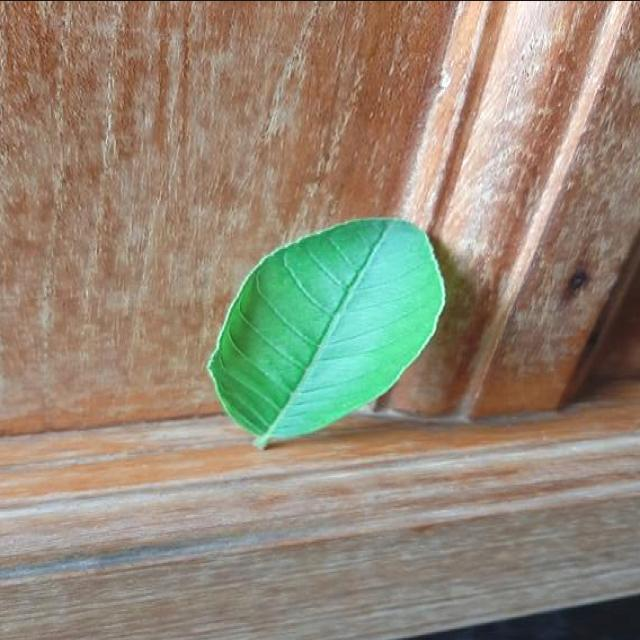leaf: (205, 215, 446, 450)
